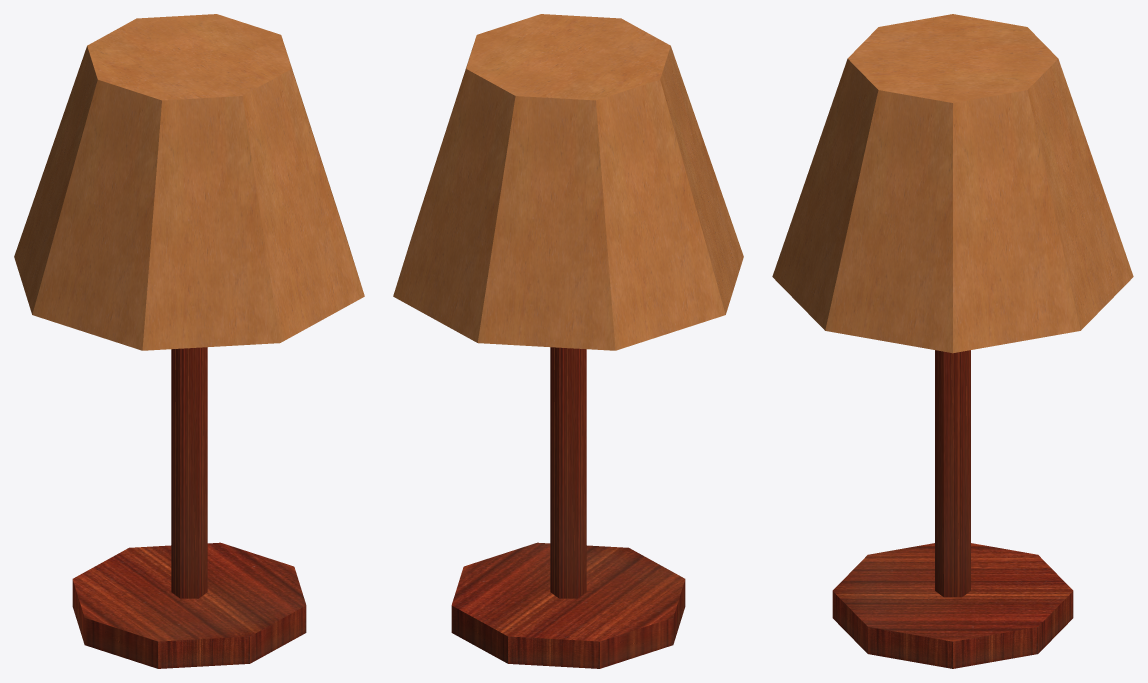
Rendered from Lamp_Table.fbx.
The picture shows the model from 3 angles, left to right: view 1: azimuth 30°, elevation 25°; view 2: azimuth 150°, elevation 25°; view 3: azimuth 270°, elevation 25°; orthographic projection.
Parts seen in each view (by area): view 1: Lamp_Table; view 2: Lamp_Table; view 3: Lamp_Table.
Boxes of the visible parts, box(x1,y1,x2,y2) form: Lamp_Table: box(14, 14, 364, 668); Lamp_Table: box(393, 14, 743, 668); Lamp_Table: box(772, 14, 1133, 668).
Bounding box in the file's own units: 0.24 × 0.41 × 0.24.
